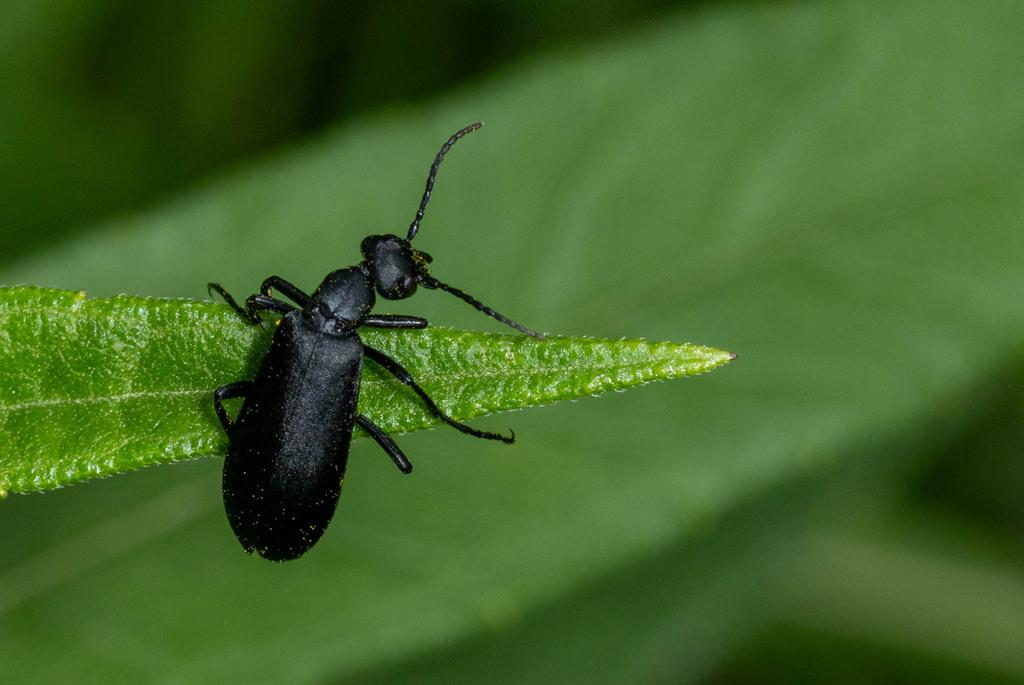blister_beetle: (119, 96, 643, 614)
